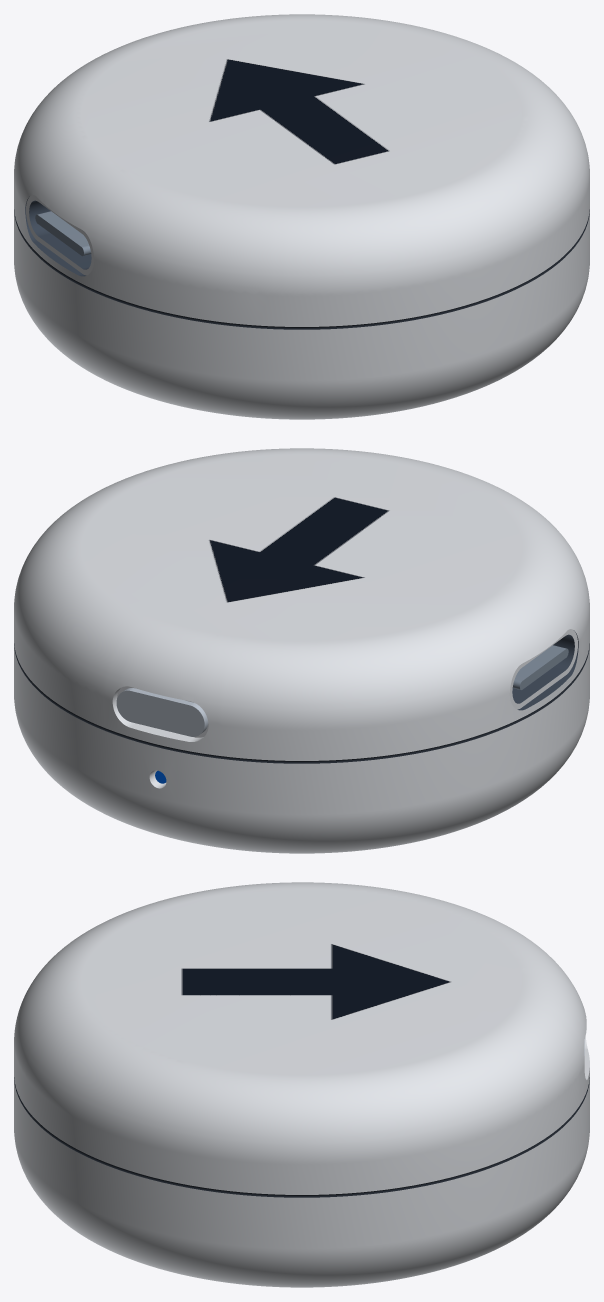
Rendered from pico_tracker_rev3.obj.
3 views of the same model, one above another, from view 1: azimuth 30°, elevation 25°; view 2: azimuth 150°, elevation 25°; view 3: azimuth 270°, elevation 25° (orthographic).
Visible parts, largest first — view 1: pico_tracker_rev3; view 2: pico_tracker_rev3; view 3: pico_tracker_rev3.
Part boxes in pixels (bbox=[...]): pico_tracker_rev3: bbox=[14, 14, 589, 419]; pico_tracker_rev3: bbox=[14, 448, 589, 853]; pico_tracker_rev3: bbox=[14, 882, 589, 1287].
Size of the model in its own units: 0.0385 by 0.0152 by 0.0385.
1 material, 1 textured.
